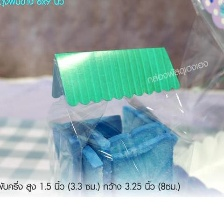snack: (40, 38, 197, 195)
